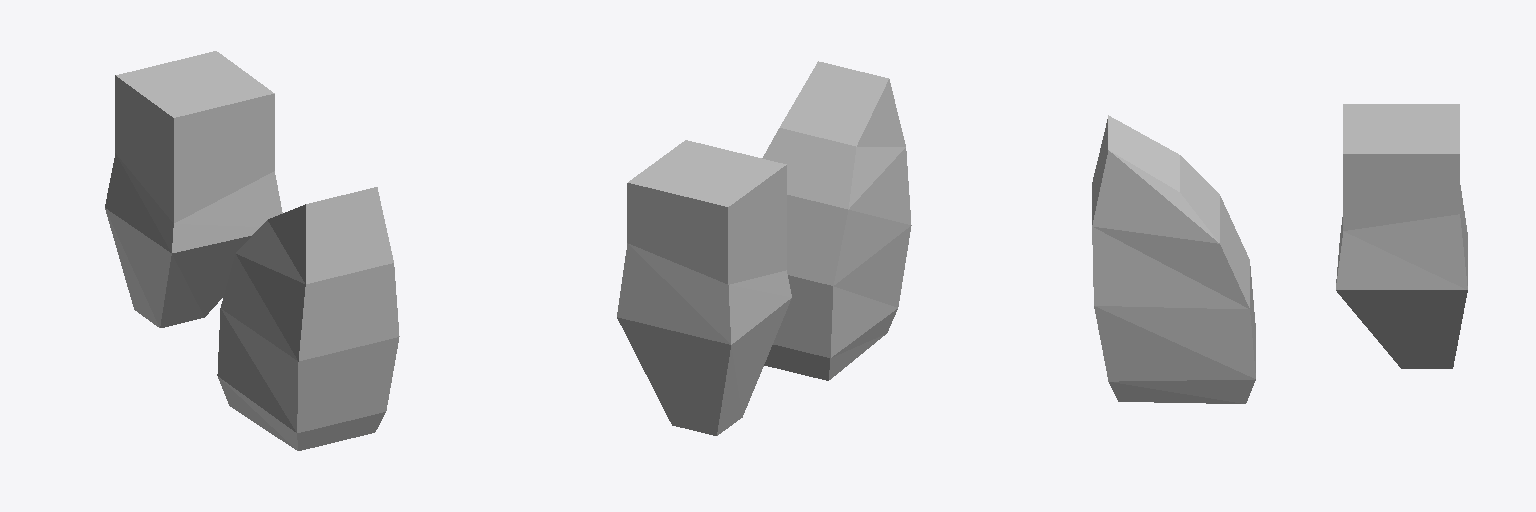
File: Rocks.obj
The picture shows the model from 3 angles: view 1: azimuth 30°, elevation 25°; view 2: azimuth 150°, elevation 25°; view 3: azimuth 270°, elevation 25°; orthographic projection.
Parts seen in each view (by area): view 1: pCube2_pCube2, pCube1_pCube1; view 2: pCube1_pCube1, pCube2_pCube2; view 3: pCube2_pCube2, pCube1_pCube1.
Boxes of the visible parts, box(x1,y1,x2,y2) form: pCube2_pCube2: box(217, 187, 399, 450); pCube1_pCube1: box(105, 51, 282, 327); pCube1_pCube1: box(617, 140, 791, 435); pCube2_pCube2: box(762, 61, 911, 380); pCube2_pCube2: box(1092, 115, 1255, 403); pCube1_pCube1: box(1336, 104, 1467, 368).
Bounding box in the file's own units: 1.13 × 2.4 × 3.22.